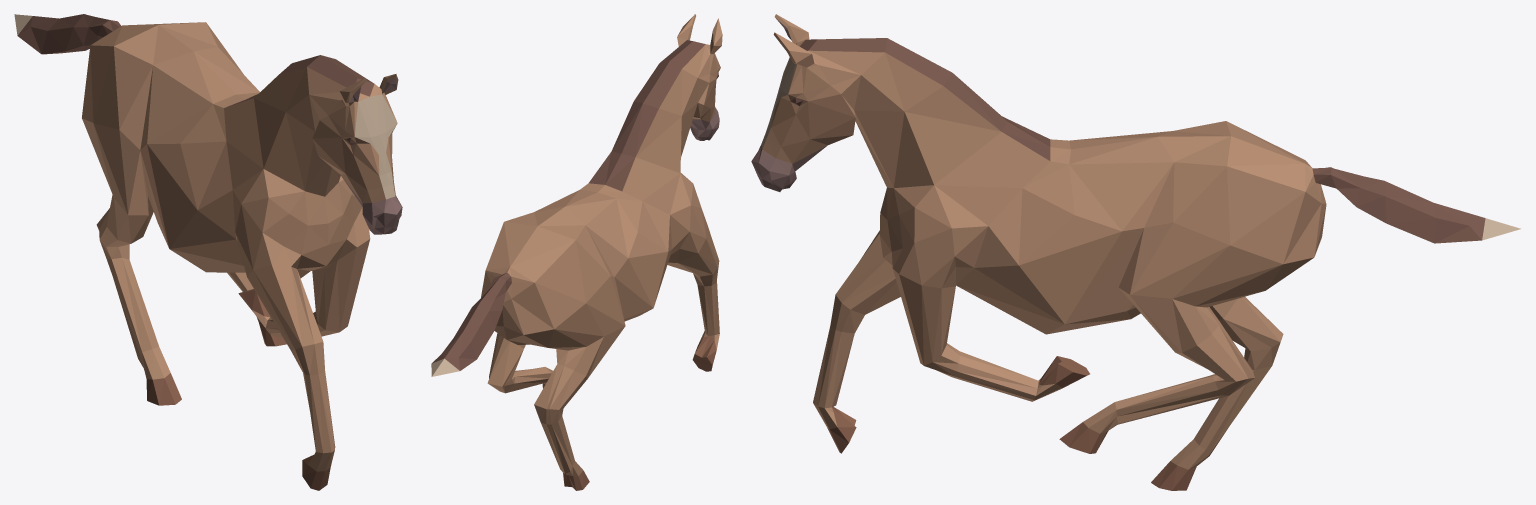
The model's file is Horse.glb.
3 renders of one model, left to right at view 1: azimuth 30°, elevation 25°; view 2: azimuth 150°, elevation 25°; view 3: azimuth 270°, elevation 25°, orthographic. The views are drawn at different scales.
Parts seen in each view (by area): view 1: mesh_0; view 2: mesh_0; view 3: mesh_0.
Part boxes in pixels (<box>): mesh_0: <box>14,14,402,490</box>; mesh_0: <box>431,14,722,490</box>; mesh_0: <box>751,14,1520,490</box>.
Bounding box in the file's own units: 64.05 × 190 × 278.
